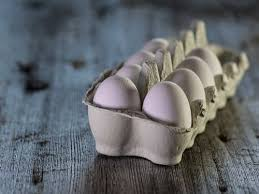eggs: (93, 34, 243, 153)
